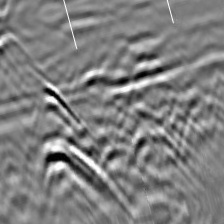Utility: (42, 78, 132, 224)
